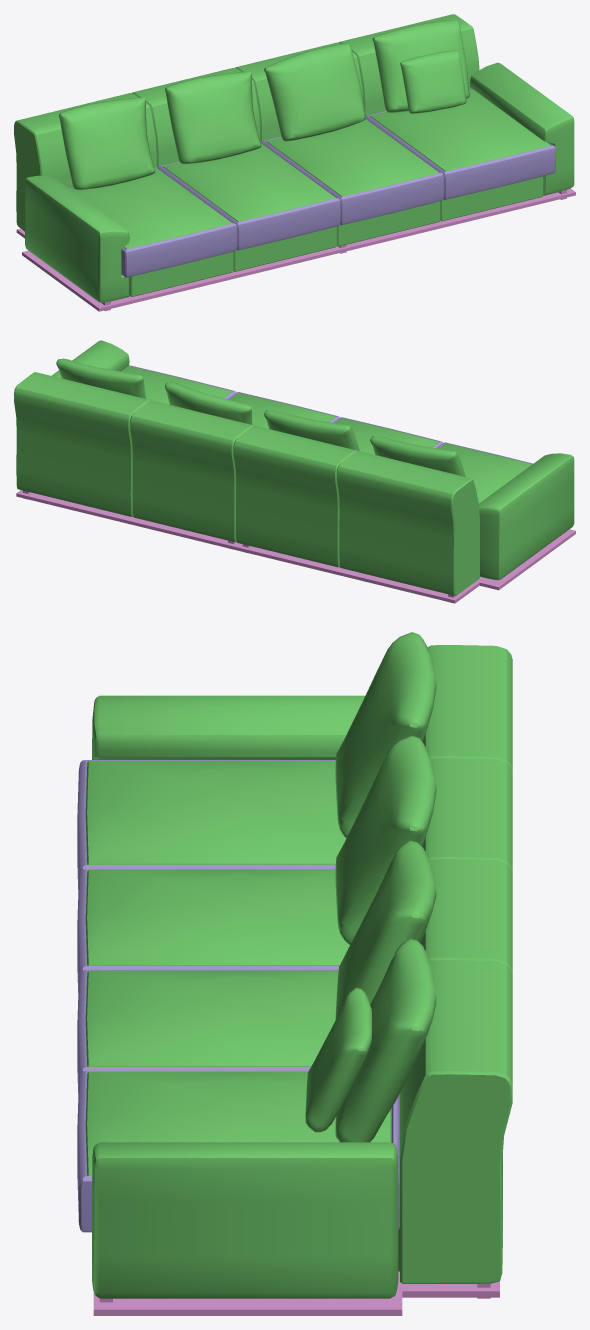
Rendered from sofa.FBX.
The picture shows the model from 3 angles, top to bottom: view 1: azimuth 30°, elevation 25°; view 2: azimuth 150°, elevation 25°; view 3: azimuth 270°, elevation 25°; orthographic projection. The views are drawn at different scales.
Visible parts, largest first — view 1: CDTS8662; view 2: CDTS8662; view 3: CDTS8662.
Part boxes in pixels (left/top/right/bottom): CDTS8662: left=14, top=14, right=575, bottom=311; CDTS8662: left=14, top=340, right=575, bottom=603; CDTS8662: left=77, top=632, right=512, bottom=1315.
Size of the model in its own units: 268 by 106 by 71.
